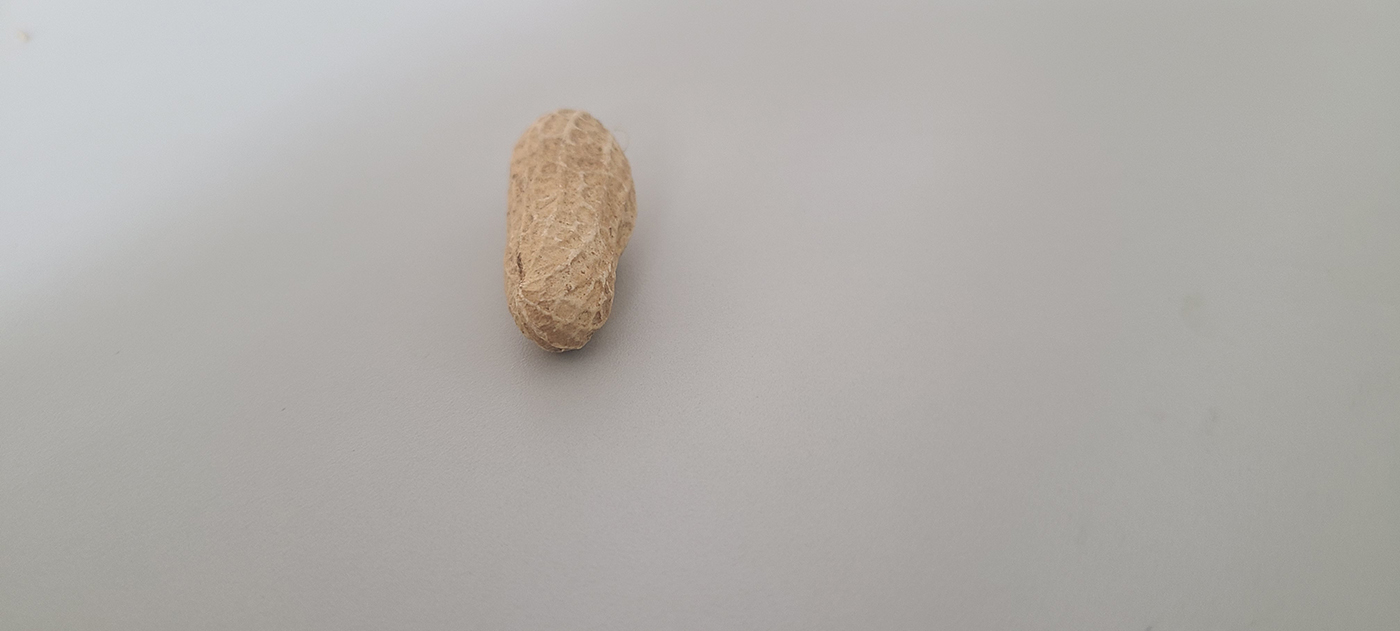h: (502, 108, 635, 353)
